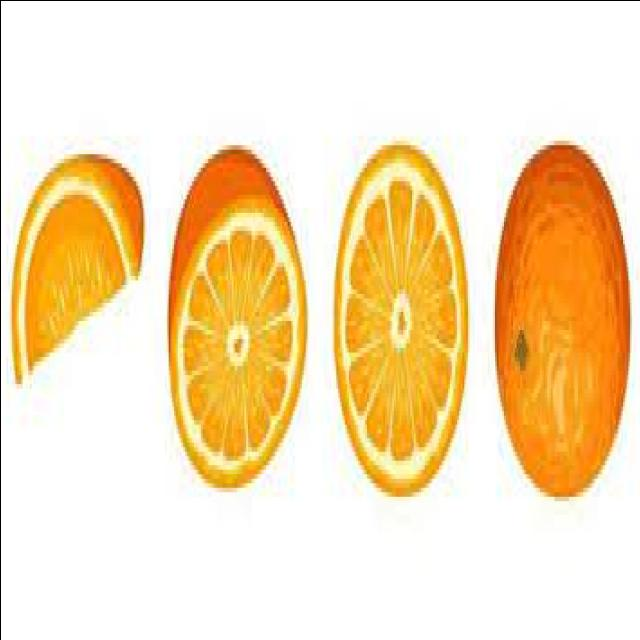orange: (489, 147, 633, 502)
